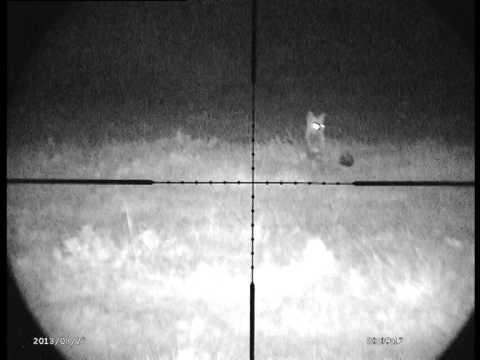fox: (289, 98, 356, 176)
